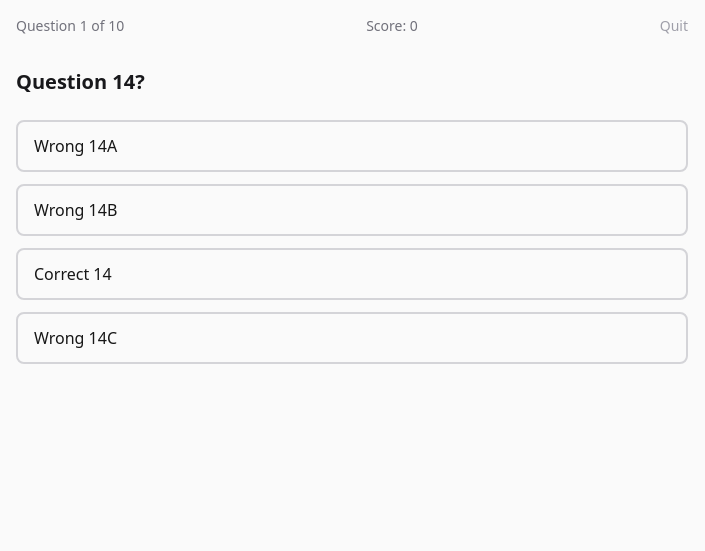
it: QuizPage › should reset explanation when moving to next question
expect the text "Question 1 of 10" is shown: met, box x1=16 y1=16 x2=124 y2=36
// Answer incorrectly to see explanation
What coordinates should you click on to do the following:
click the button "Wrong 14A"
I would click on:
 (76, 146)
Its box is x1=16 y1=120 x2=688 y2=172.
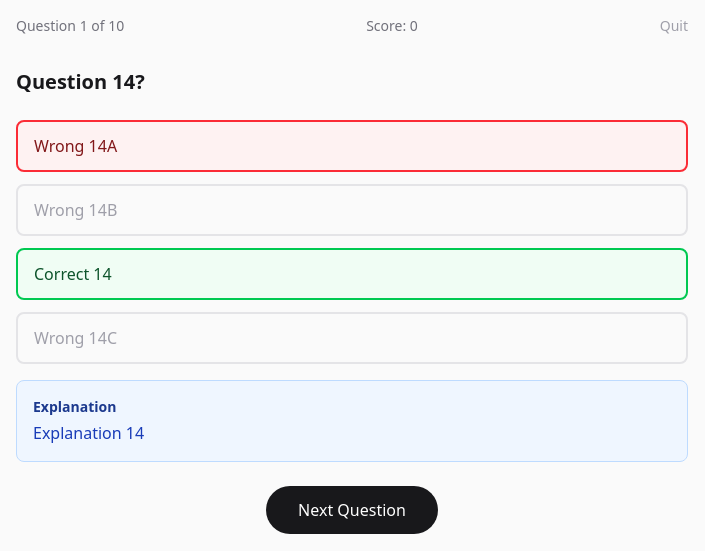
expect the text "Explanation 14" is shown: met, box x1=33 y1=422 x2=144 y2=444
// Move to next question
What coordinates should you click on to do the following:
click the button "Next Question"
I would click on:
 (352, 510)
Its box is x1=266 y1=486 x2=438 y2=534.
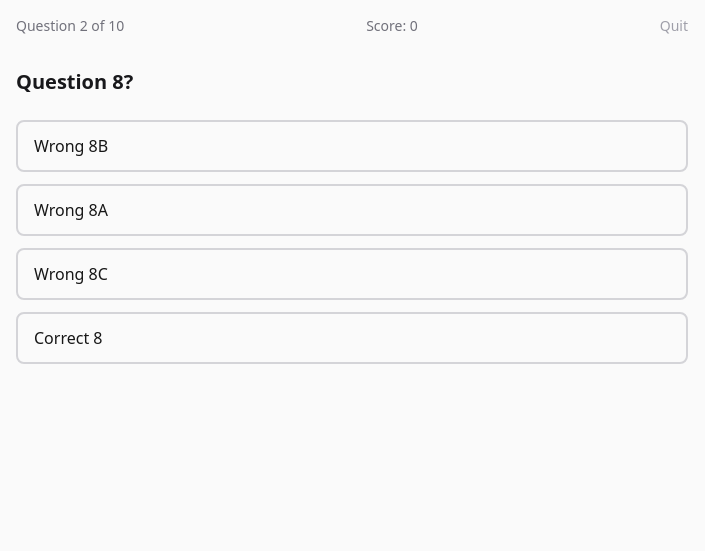
expect the text "Question 2 of 10" is shown: met, box x1=16 y1=16 x2=124 y2=36
